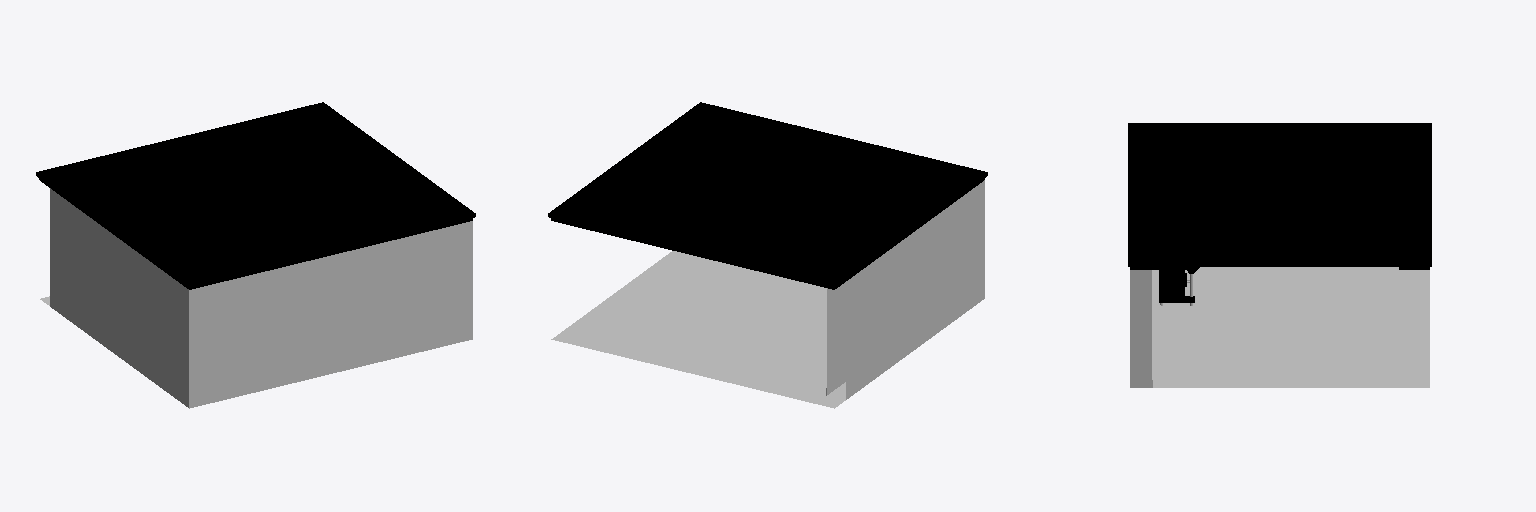
Rendered from room_2.obj.
The picture shows the model from 3 angles: view 1: azimuth 30°, elevation 25°; view 2: azimuth 150°, elevation 25°; view 3: azimuth 270°, elevation 25°; orthographic projection.
Parts seen in each view (by area): view 1: Tetto_Cube.008, Muro_della_Porta_Cube.002, Muro_Frontale_Cube, Spessore_Cube.010; view 2: Tetto_Cube.008, Pavimento_Cube.003, Muro_Frontale_Cube, Muro_della_Porta_Cube.002, Spessore_Cube.010; view 3: Tetto_Cube.008, Pavimento_Cube.003, Muro_della_Porta_Cube.002, Fondamenta_Cube.001.
Part boxes in pixels (x1,y1,x2,y2): Tetto_Cube.008: (36,102,475,286); Muro_della_Porta_Cube.002: (178,221,472,408); Muro_Frontale_Cube: (50,188,178,400); Spessore_Cube.010: (39,178,472,289); Tetto_Cube.008: (548,102,987,286); Pavimento_Cube.003: (551,251,845,408); Muro_Frontale_Cube: (827,188,973,399); Muro_della_Porta_Cube.002: (974,180,984,305); Spessore_Cube.010: (551,178,984,289); Tetto_Cube.008: (1128,123,1431,266); Pavimento_Cube.003: (1153,267,1429,387); Muro_della_Porta_Cube.002: (1130,270,1151,387); Fondamenta_Cube.001: (1159,267,1194,302).
Bounding box in the file's own units: 7.6 × 3.2 × 6.97.